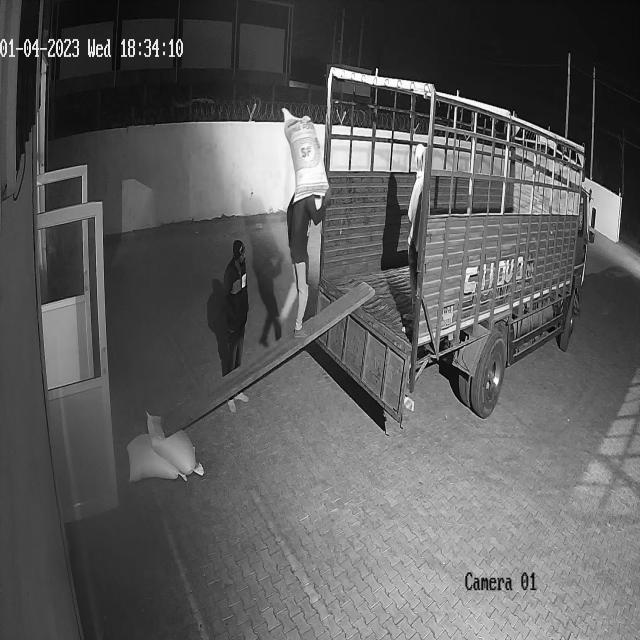sack: (282, 108, 328, 204), (146, 412, 204, 477), (128, 434, 186, 482)
